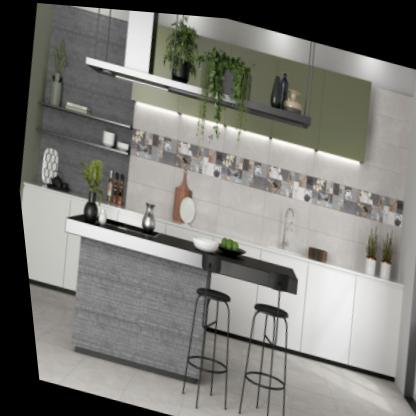Cabinet: (234, 237, 407, 377), (209, 33, 381, 159)
Ceramic floor: (23, 285, 164, 413), (275, 349, 413, 416)
